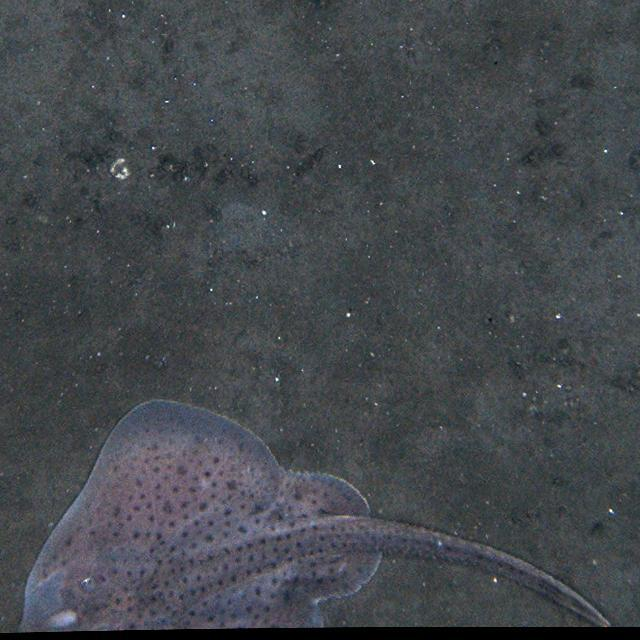skate: (14, 396, 617, 631)
